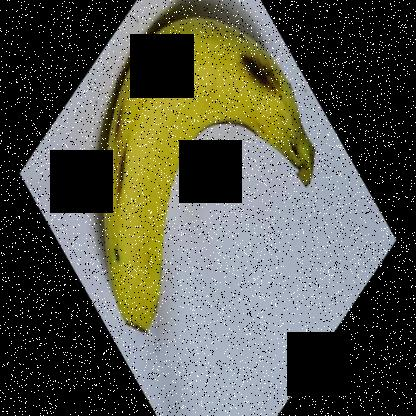freshripe: (91, 1, 334, 348)
